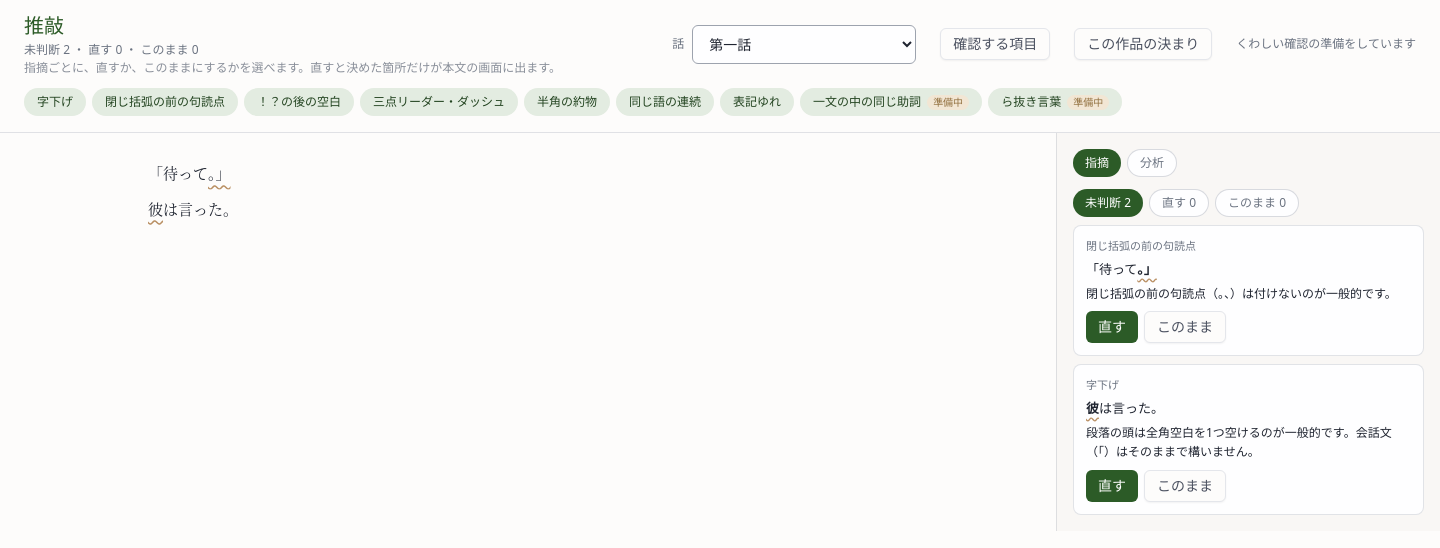
ProofreadView（推敲画面・COT-40） › 直す・このまま・未判断に戻すで一覧を移り、判断を保存する
The width and height of the screenshot is (1440, 548).
Click the 1st button "直す".
click(1112, 327)  # box [1086, 311, 1138, 343]
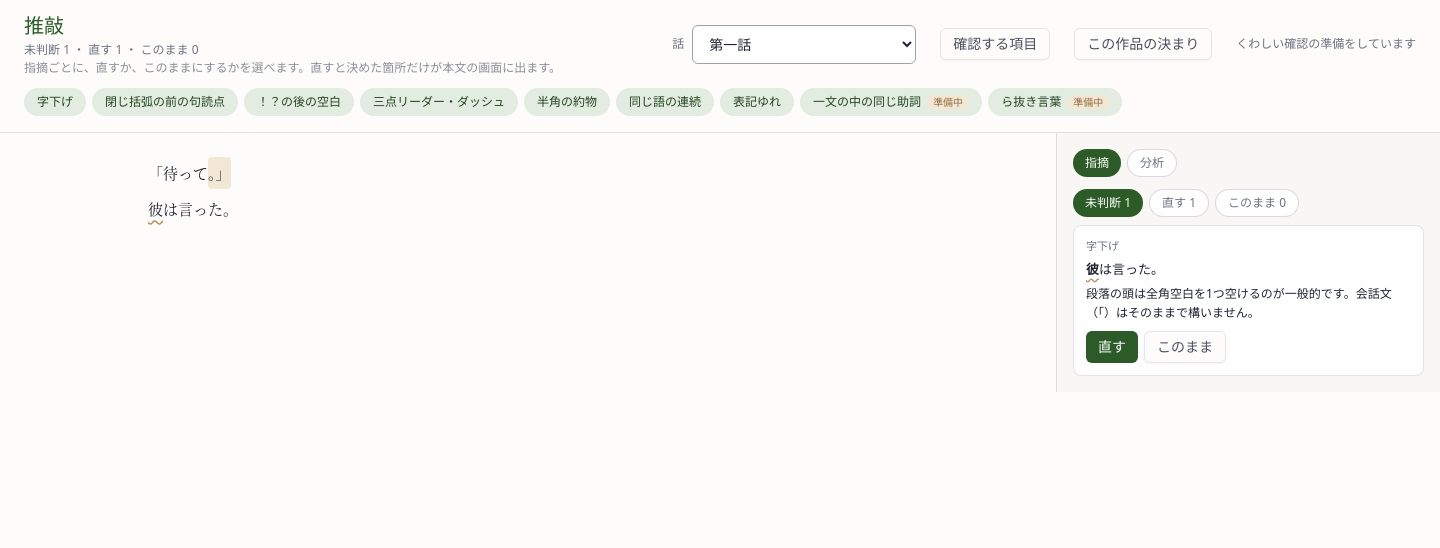
Check: the text "未判断 1 ・ 直す 1 ・ このまま 0" is shown, box [24, 41, 198, 58]
Click the button "このまま".
click(1185, 347)  # box [1144, 331, 1226, 363]
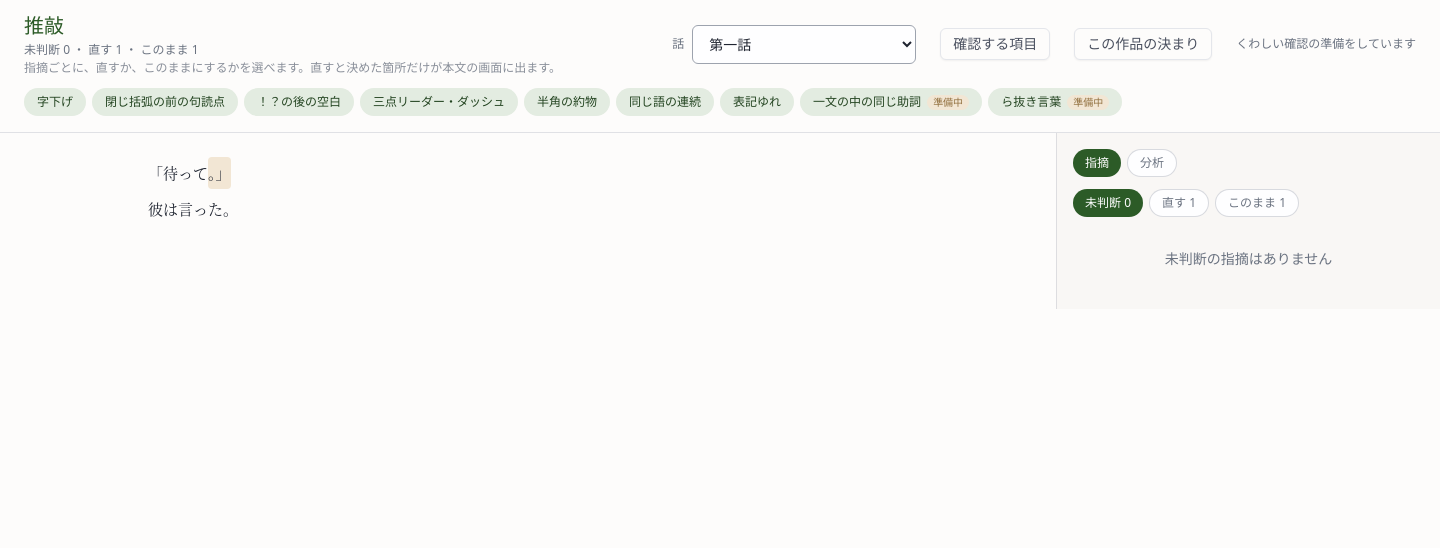
Check: the button "指摘を選ぶ：彼" is gone
Click the button "このまま 1".
click(1257, 203)  # box [1215, 189, 1299, 217]
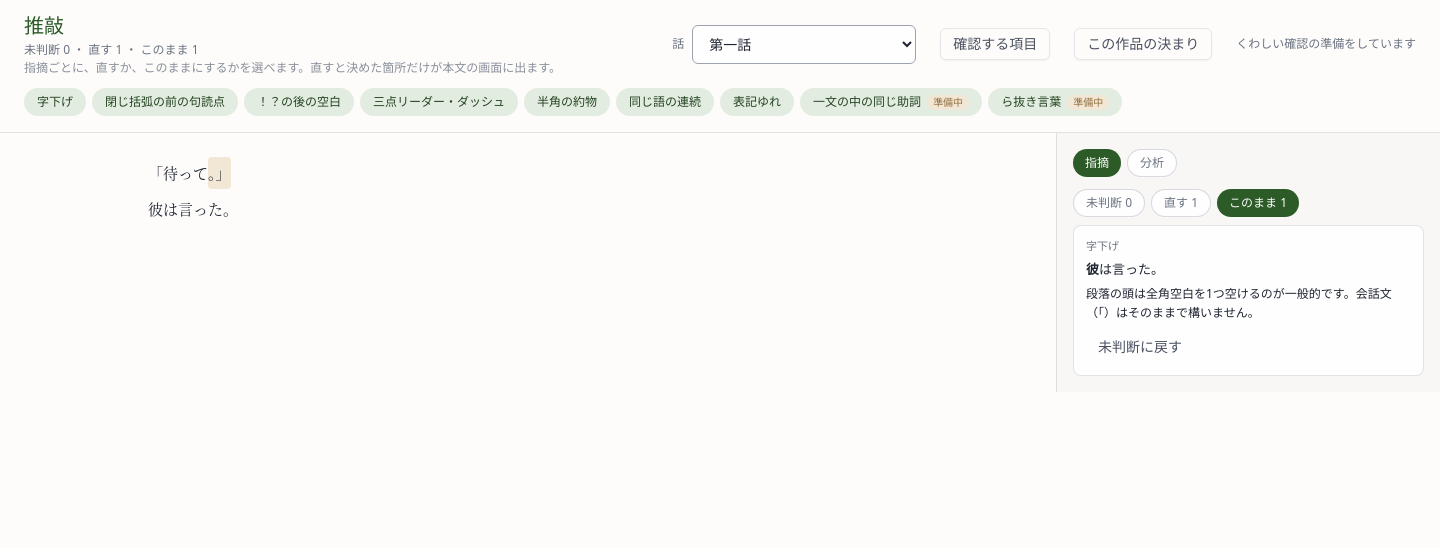
Click the button "未判断に戻す".
click(1140, 347)  # box [1086, 331, 1194, 363]
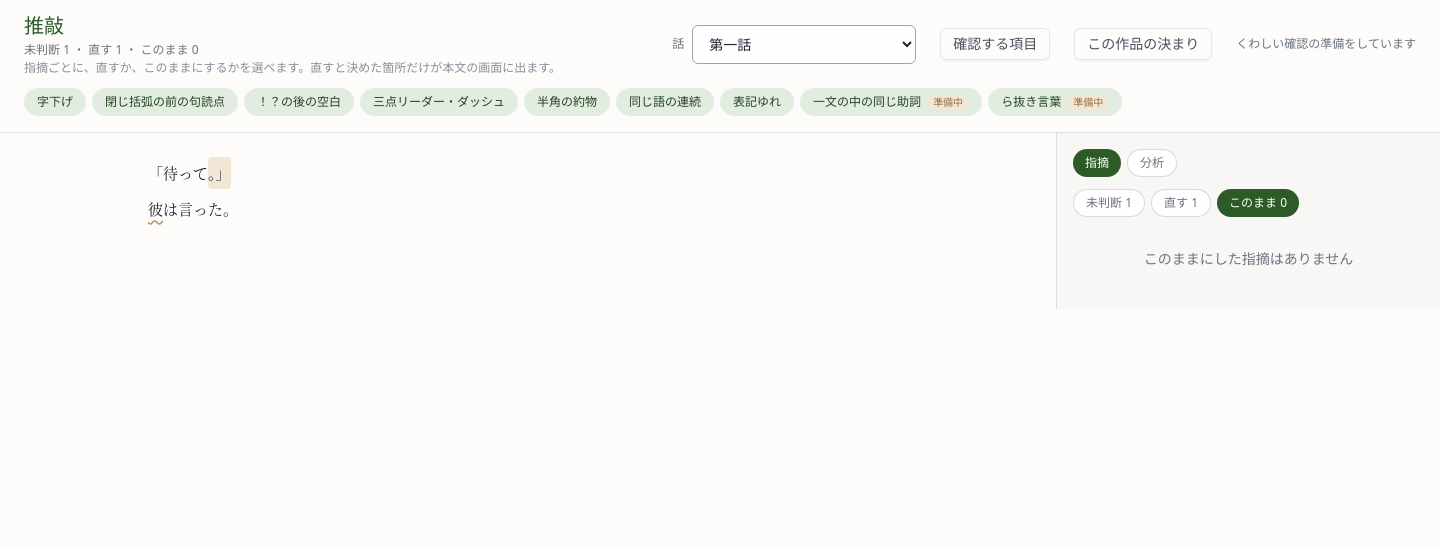
Check: the text "未判断 1 ・ 直す 1 ・ このまま 0" is shown, box [24, 41, 198, 58]
